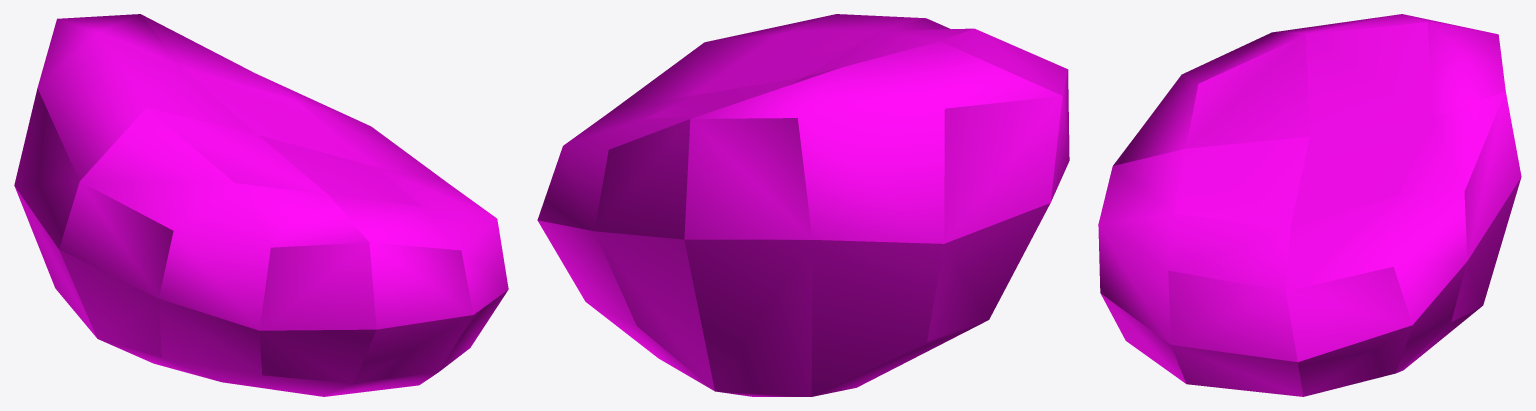
Rendered from rock.fbx.
3 renders of one model, left to right at view 1: azimuth 30°, elevation 25°; view 2: azimuth 150°, elevation 25°; view 3: azimuth 270°, elevation 25°, orthographic. The views are drawn at different scales.
Visible parts, largest first — view 1: rock; view 2: rock; view 3: rock.
Part boxes in pixels (x1=…): rock: x1=14, y1=14, x2=508, y2=396; rock: x1=537, y1=14, x2=1069, y2=396; rock: x1=1098, y1=14, x2=1521, y2=396.
Size of the model in its own units: 12.76 by 9.28 by 12.6.
